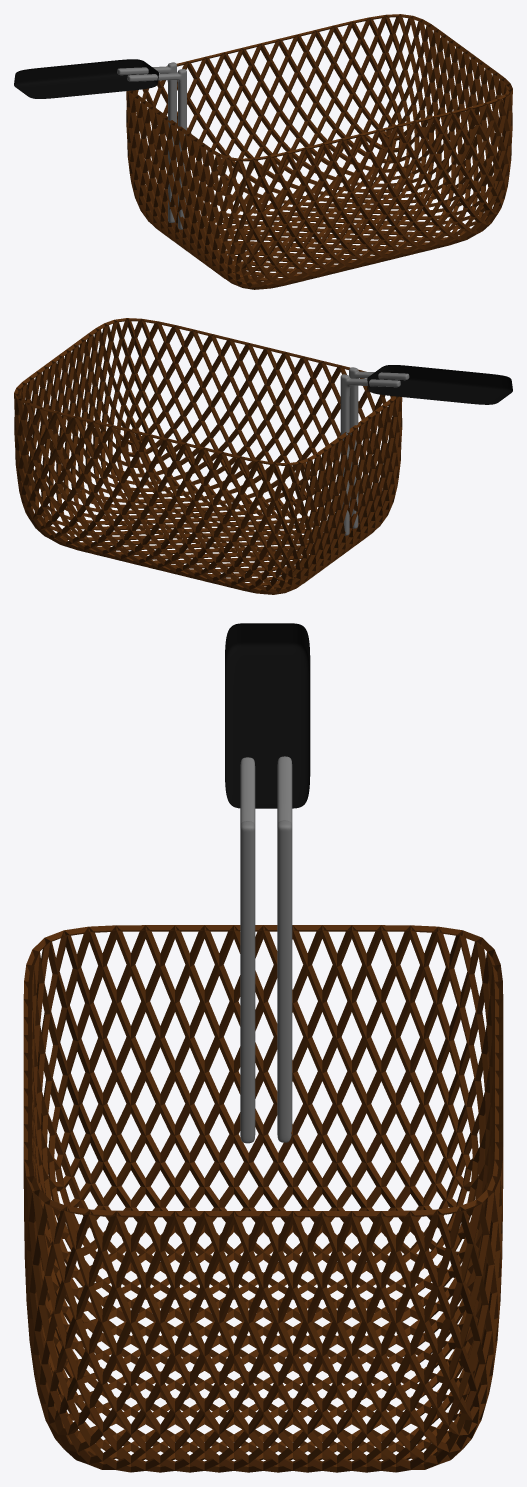
The model's file is freidora.fbx.
3 views of the same model, one above another, from view 1: azimuth 30°, elevation 25°; view 2: azimuth 150°, elevation 25°; view 3: azimuth 270°, elevation 25° (orthographic). The views are drawn at different scales.
Parts seen in each view (by area): view 1: Plane, Cube; view 2: Plane, Cube; view 3: Plane, Cube.
Boxes of the visible parts, x1,y1,x2,y2 form: Plane: (126, 14, 512, 289); Cube: (14, 59, 186, 229); Plane: (14, 318, 402, 594); Cube: (340, 365, 512, 535); Plane: (23, 925, 503, 1472); Cube: (225, 623, 310, 1143).
Size of the model in its own units: 416 by 205 by 194.
